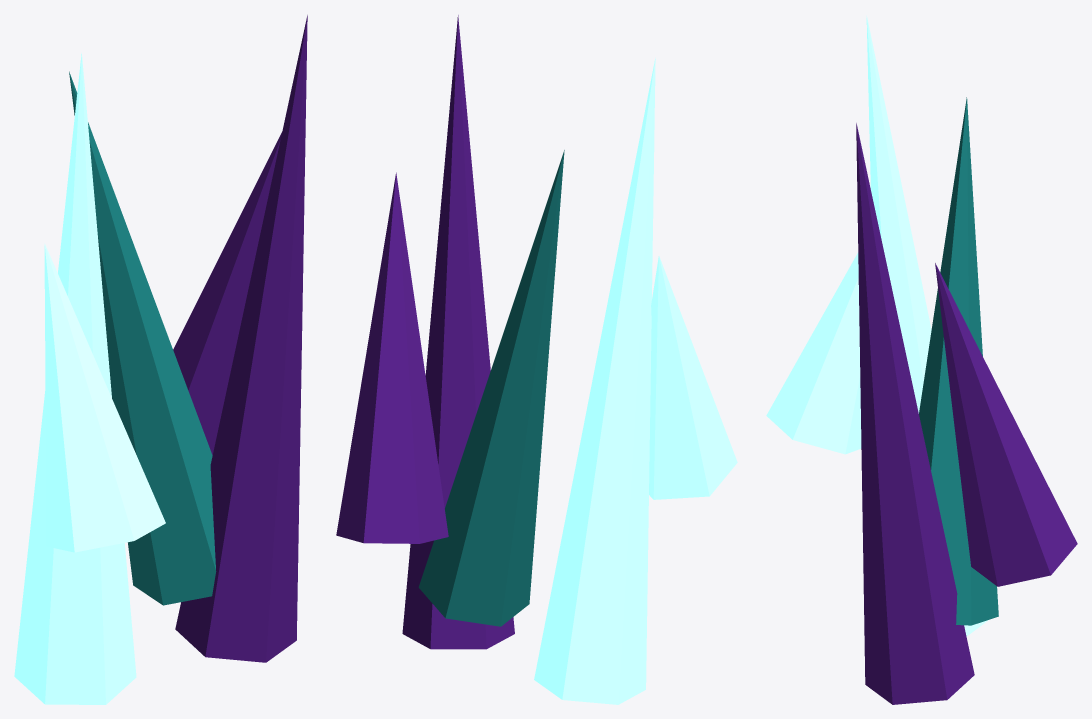
Rendered from Prop_OR_Crystal_22.glb.
The picture shows the model from 3 angles, left to right: view 1: azimuth 30°, elevation 25°; view 2: azimuth 150°, elevation 25°; view 3: azimuth 270°, elevation 25°; orthographic projection. The views are drawn at different scales.
Parts seen in each view (by area): view 1: Prop_OR_Crystal_22; view 2: Prop_OR_Crystal_22; view 3: Prop_OR_Crystal_22.
Part boxes in pixels (x1,y1,x2,y2): Prop_OR_Crystal_22: (14,15,307,704); Prop_OR_Crystal_22: (336,15,737,704); Prop_OR_Crystal_22: (766,15,1077,704).
Bounding box in the file's own units: 0.6906 × 1.51 × 0.7078.
